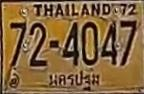0: (81, 22, 97, 64)
2: (29, 23, 46, 66)
4: (62, 21, 78, 65), (100, 20, 116, 64)
7: (9, 21, 26, 66), (119, 19, 136, 64)
NPT: (48, 69, 100, 93)
